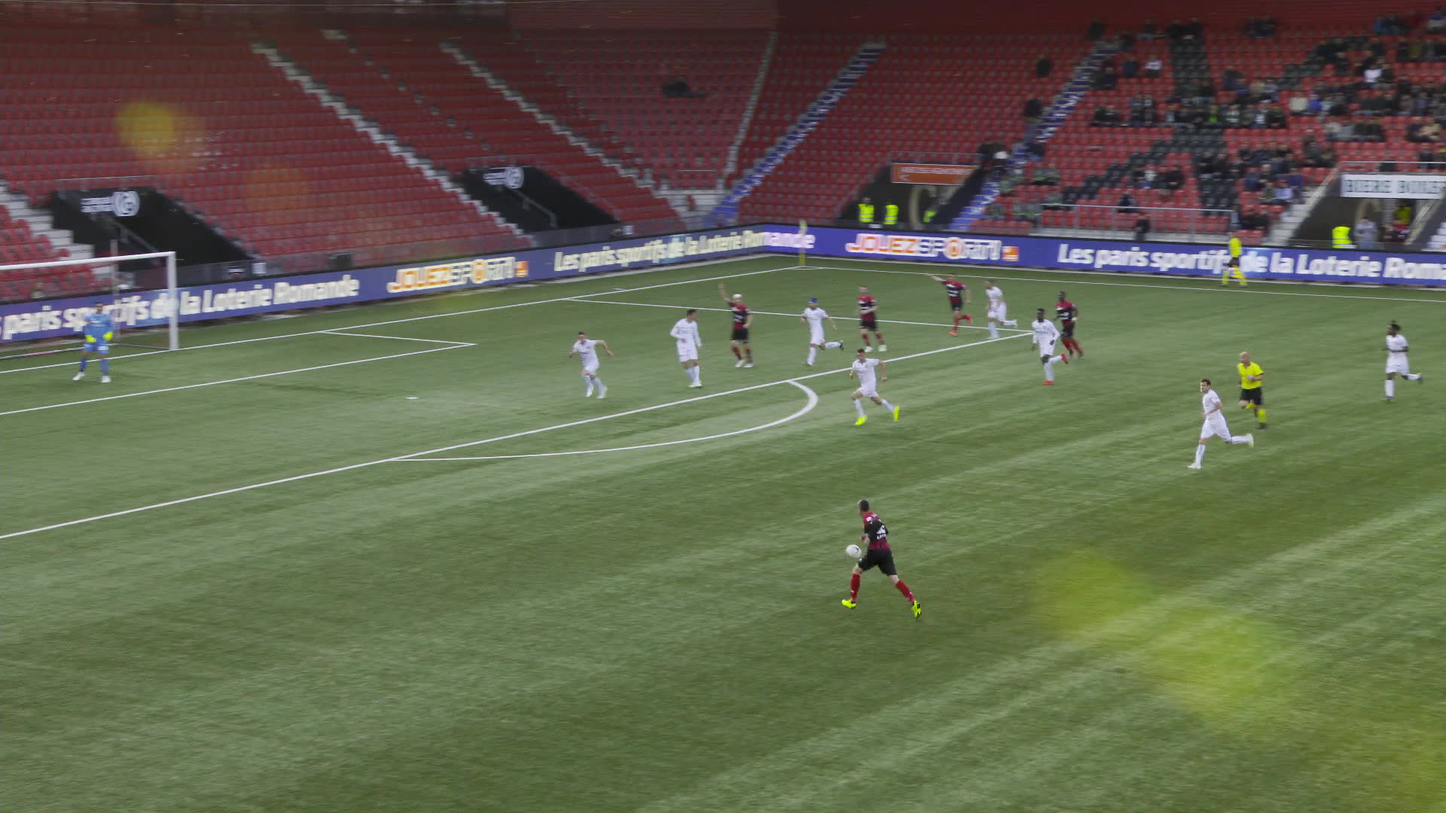ball: (842, 546, 856, 559)
player: (848, 503, 914, 621), (1191, 379, 1244, 469), (1027, 306, 1070, 382), (1375, 322, 1416, 400), (713, 283, 750, 367), (667, 308, 706, 387), (847, 350, 887, 427), (73, 302, 111, 382), (922, 273, 967, 334), (798, 297, 837, 366), (568, 330, 605, 400), (1051, 293, 1083, 356), (850, 287, 880, 352), (979, 278, 1011, 338)
referee: (1228, 351, 1264, 426), (1216, 232, 1243, 288)
